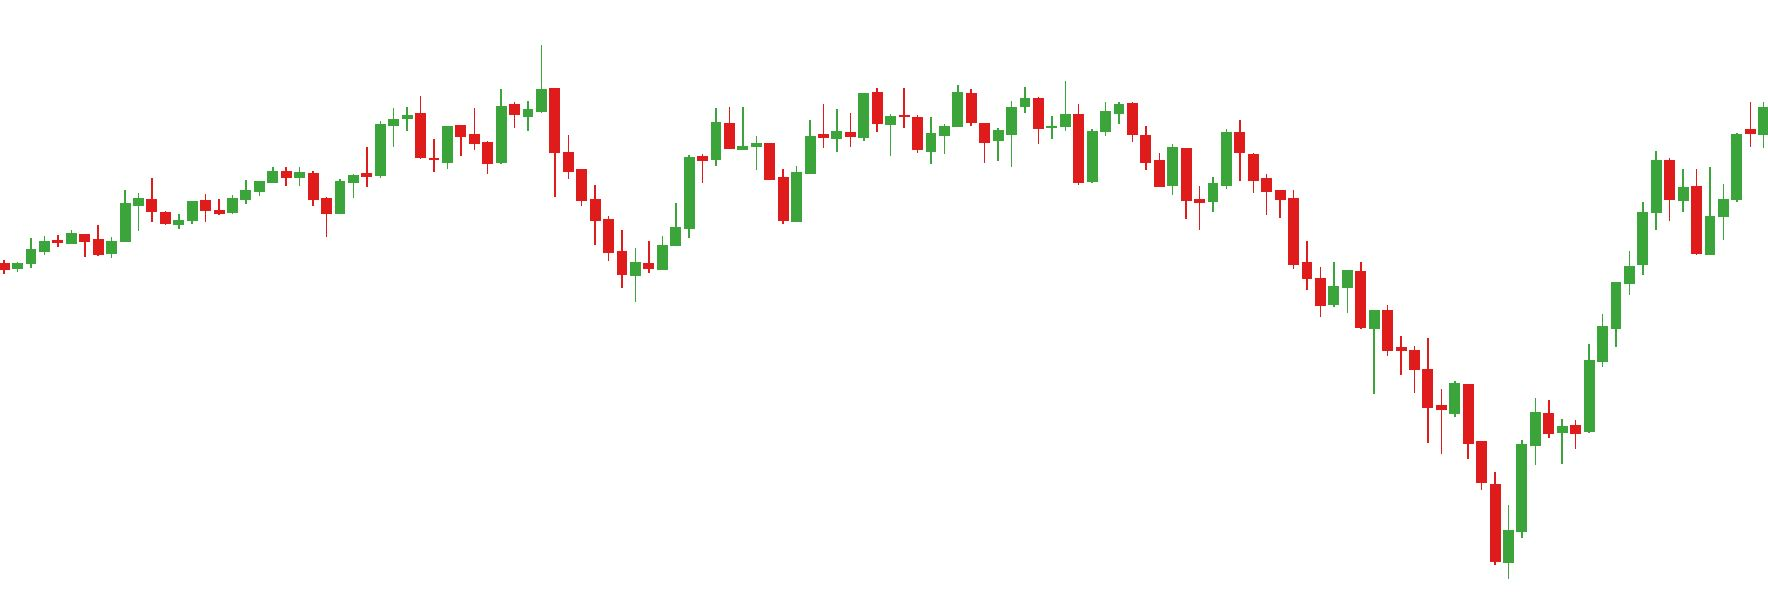buy: (226, 175, 337, 244)
sell: (1167, 113, 1246, 191)
